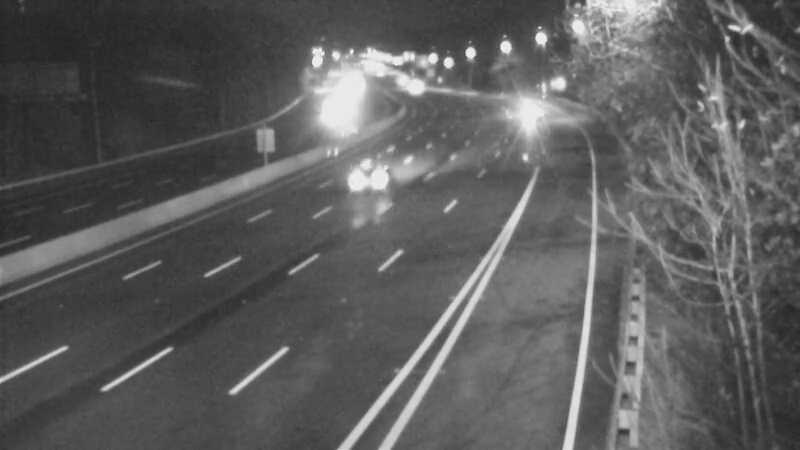vehicle: (324, 135, 404, 215), (391, 65, 441, 115), (503, 84, 553, 134)
